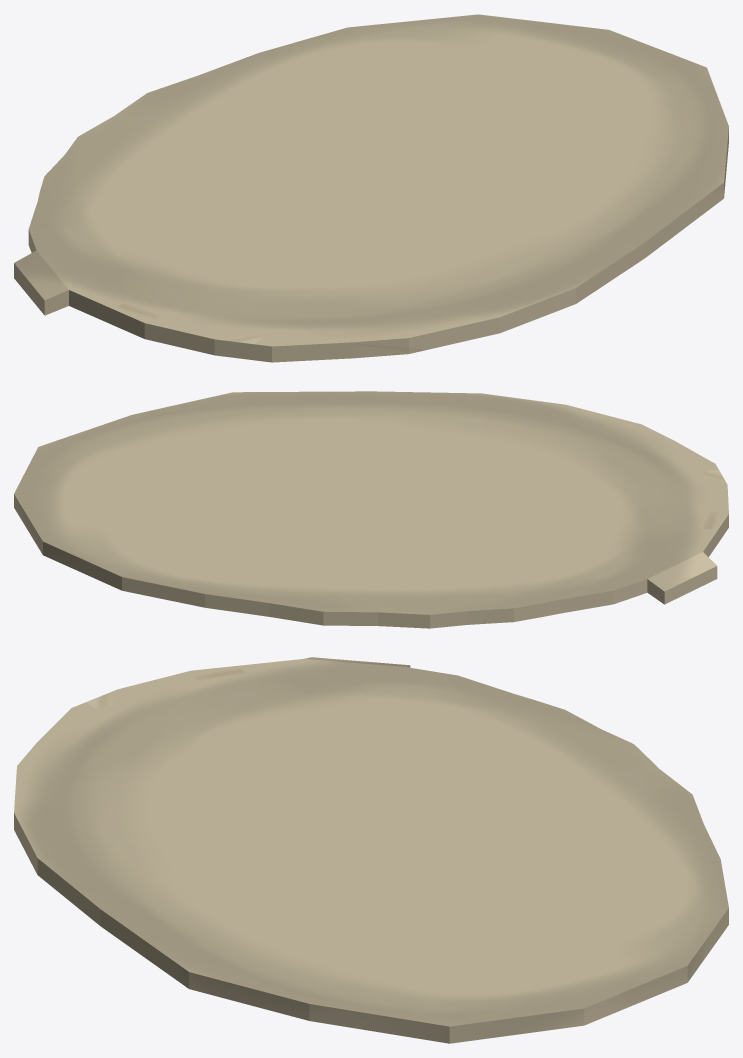
Rendered from lemurHab.fbx.
The picture shows the model from 3 angles, top to bottom: view 1: azimuth 30°, elevation 25°; view 2: azimuth 150°, elevation 25°; view 3: azimuth 270°, elevation 25°; orthographic projection. The views are drawn at different scales.
Visible parts, largest first — view 1: lemur habitat; view 2: lemur habitat; view 3: lemur habitat.
Boxes of the visible parts, x1,y1,x2,y2 form: lemur habitat: (14, 14, 728, 362); lemur habitat: (14, 391, 728, 628); lemur habitat: (14, 657, 728, 1043).
Bounding box in the file's own units: 6242 × 194 × 4984.
1 material, 1 textured.
